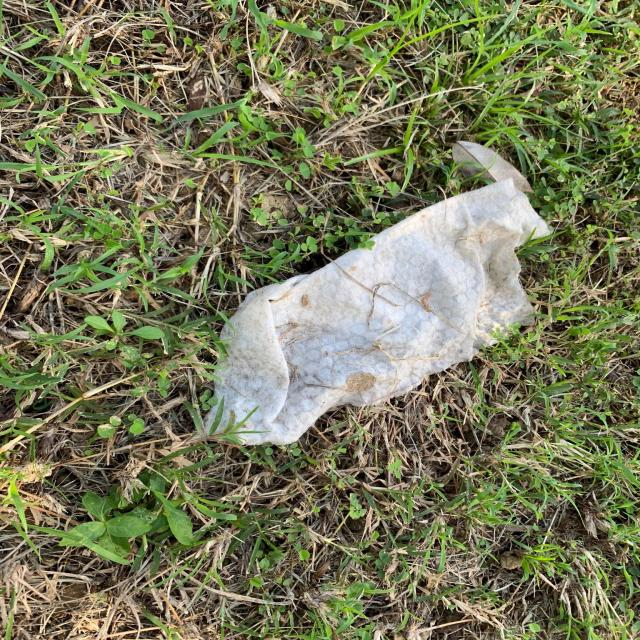litter: (184, 177, 550, 445)
